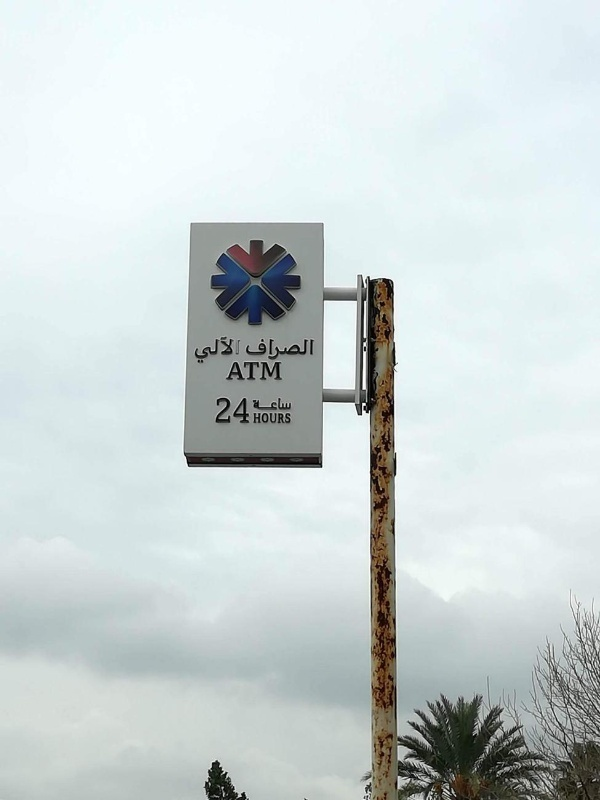text: (225, 333, 241, 365), (209, 333, 224, 365), (225, 397, 240, 424), (196, 333, 208, 365), (257, 337, 272, 362), (273, 337, 288, 362), (289, 337, 304, 362), (241, 360, 256, 382), (257, 360, 272, 382), (227, 360, 240, 382), (305, 337, 316, 362), (246, 337, 256, 362), (215, 397, 224, 424), (241, 397, 250, 424), (273, 360, 283, 382), (257, 397, 272, 411), (273, 397, 288, 411), (257, 412, 272, 425), (273, 412, 288, 425), (252, 397, 256, 411), (289, 397, 292, 411), (253, 412, 256, 425), (289, 412, 292, 425)
